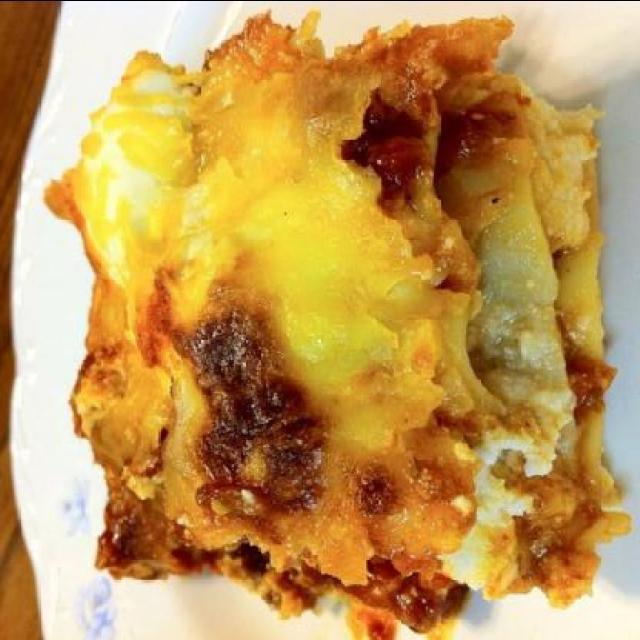Lasagna: (62, 34, 588, 616)
